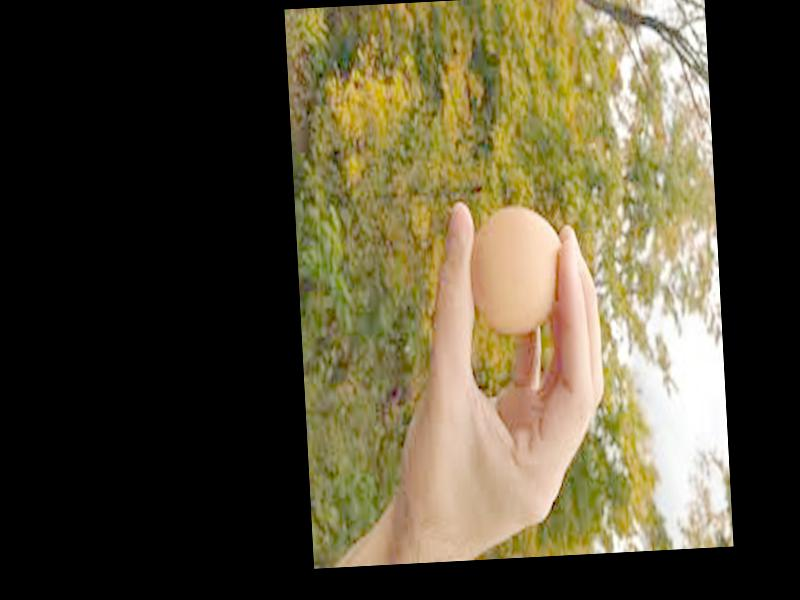Eggs: (466, 205, 567, 334)
